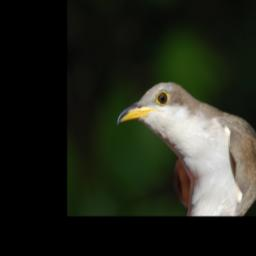Cuckoo: (113, 49, 256, 202)
